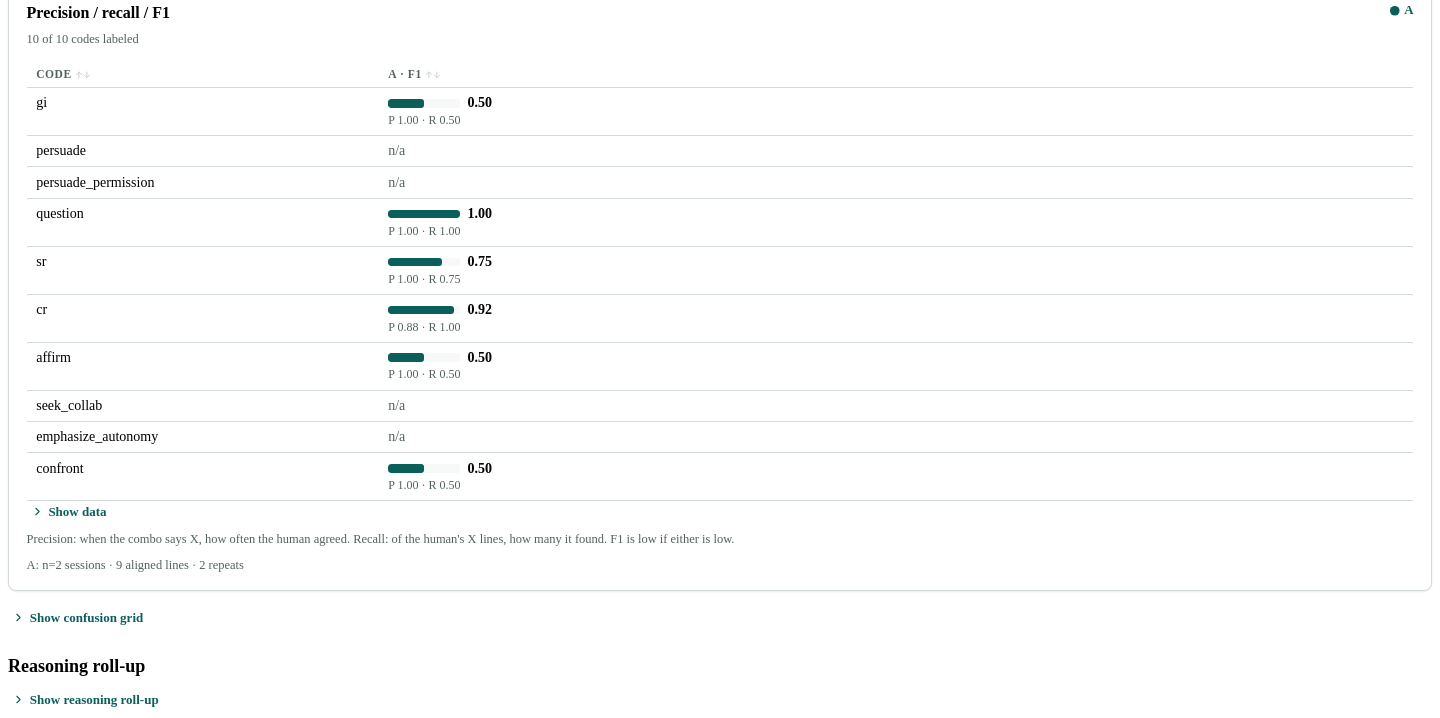
Test case: loads reasoning on demand, preserves verbatim and withheld text and follows cursors
(page scrolled)
Click the button "Show reasoning roll-up": (85,700) [8,689,163,710]
(page scrolled)
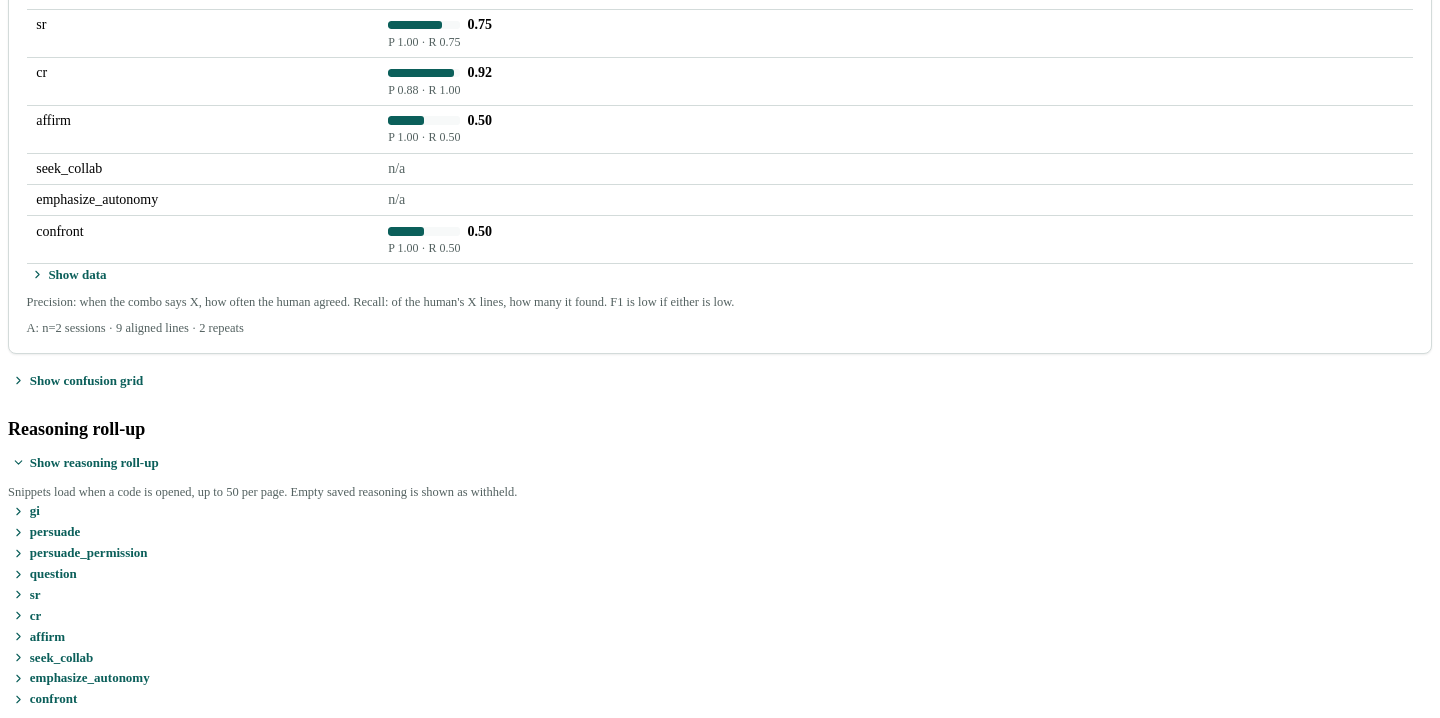
Click the button "question": (44,574) [8,564,81,584]
(page scrolled)
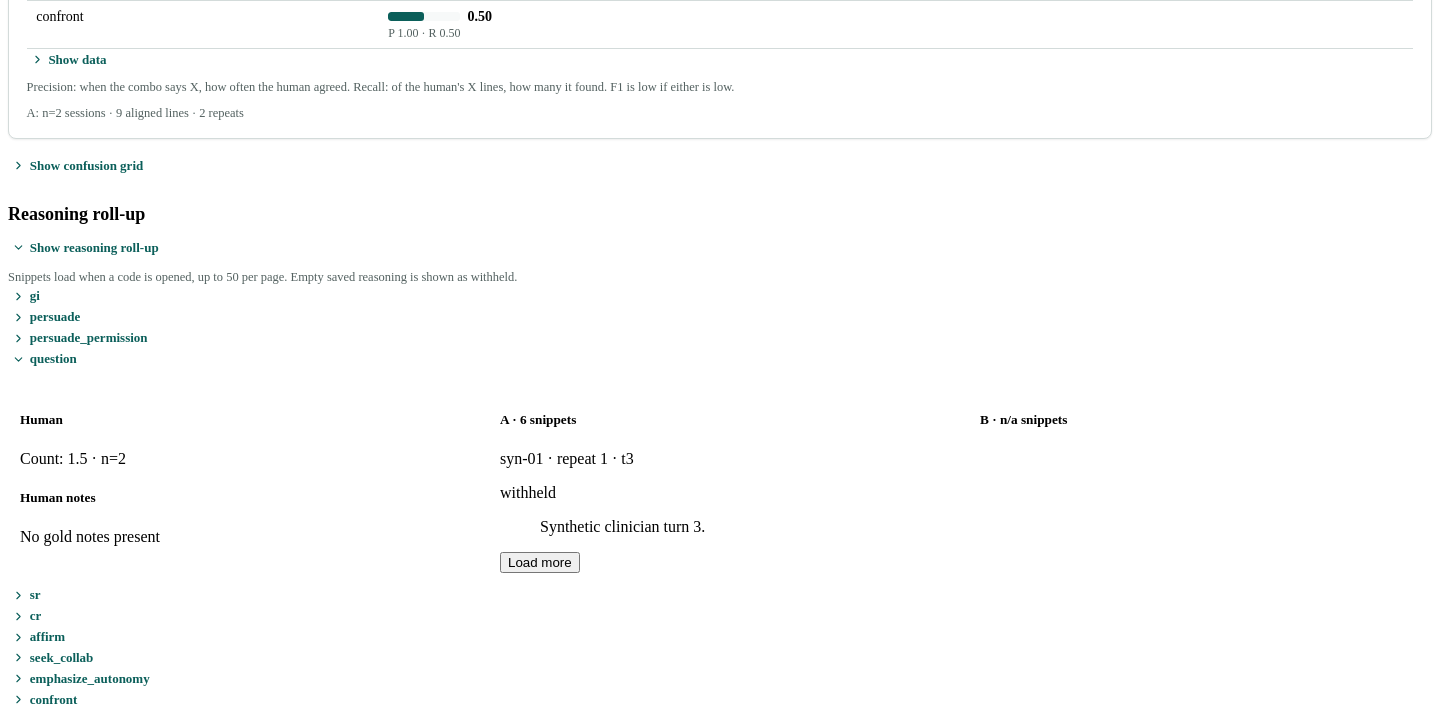
expect the text "withheld" is shown: met, box [500,484,556,501]
Click the button "Load more": (540,562) [500,552,580,573]
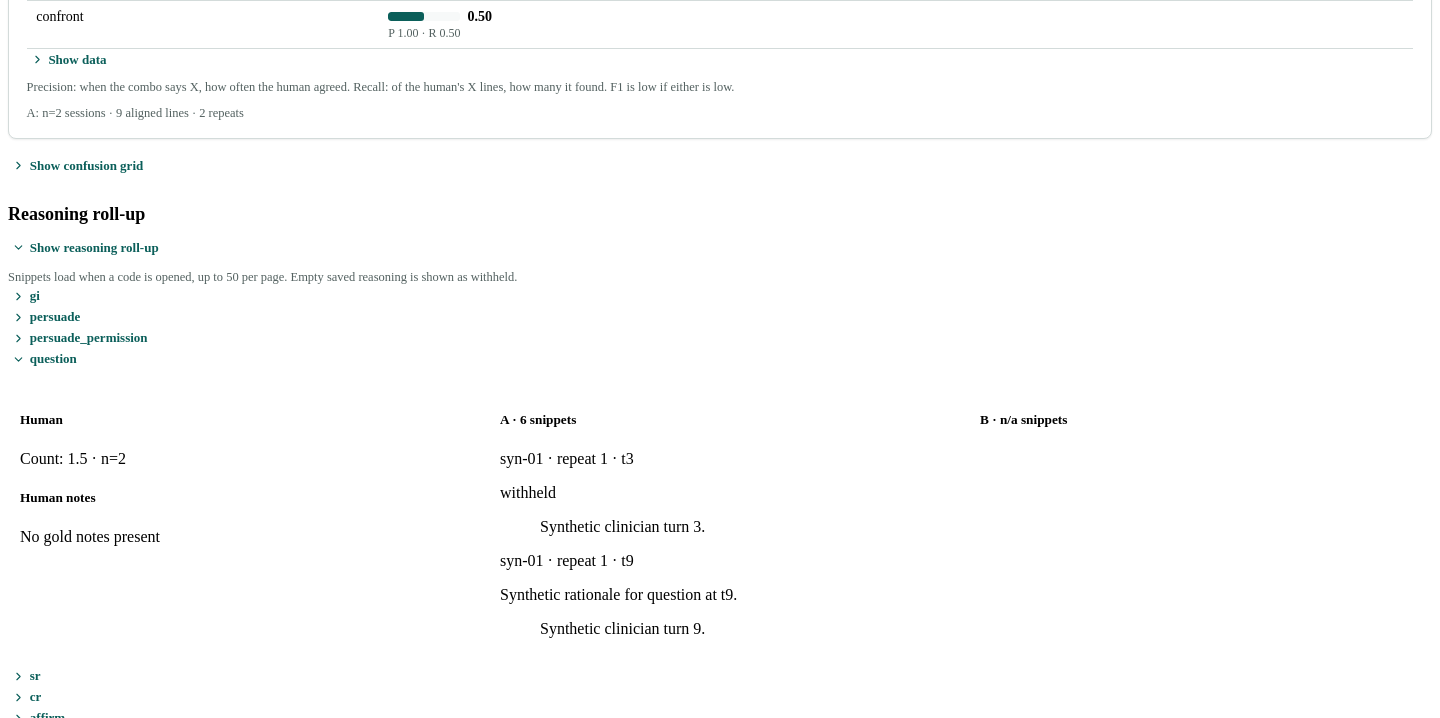
expect the text "Synthetic rationale for question at t9." is shown: met, box [500,586,737,603]
